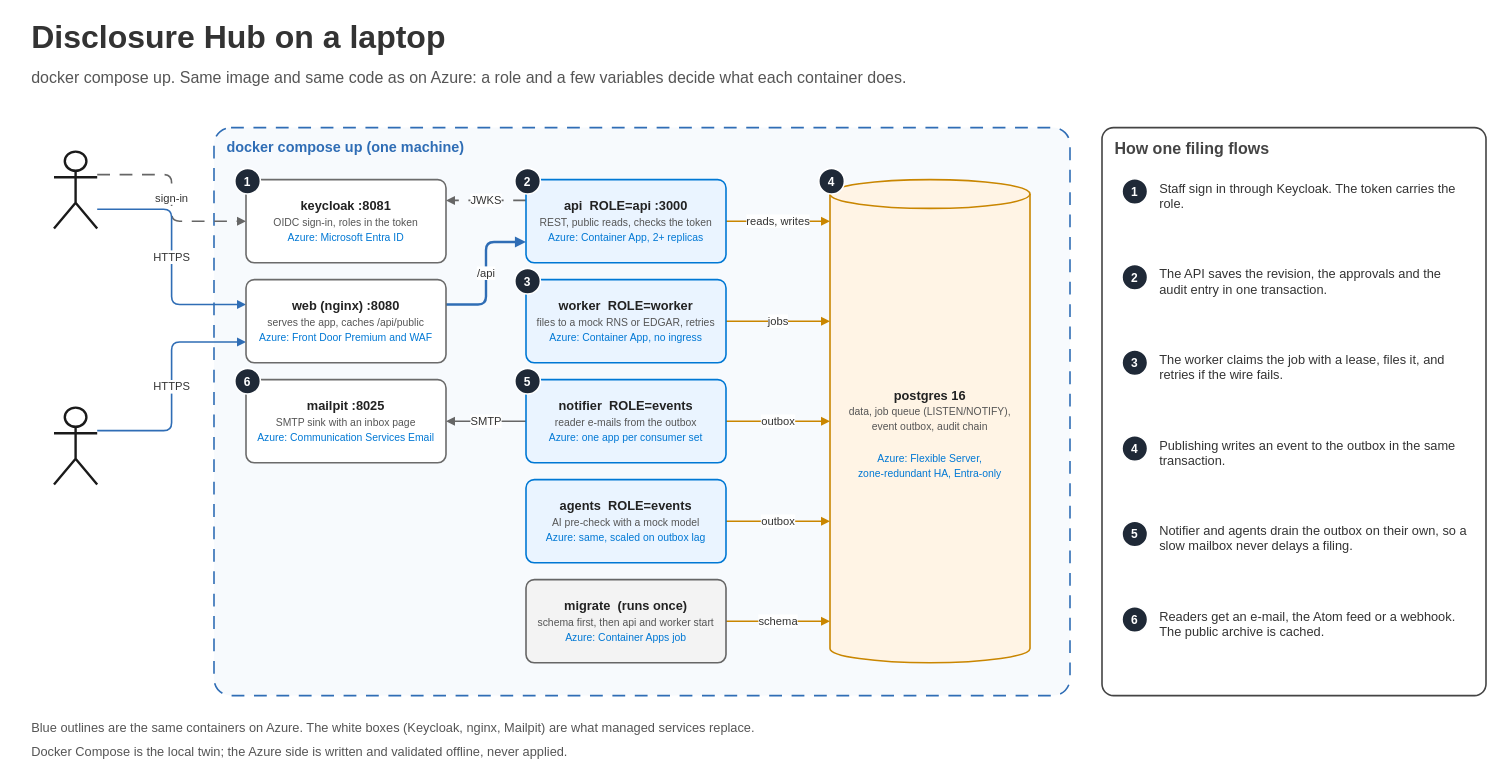
The diagram is 1500 pixels wide and 777 high, and some of its shapes have lost their labels. Each missing label, with the centre of its shape:
"Readers public, no sign-in" belongs at (75,445).
"Staff author, approver, publisher" belongs at (75,189).
